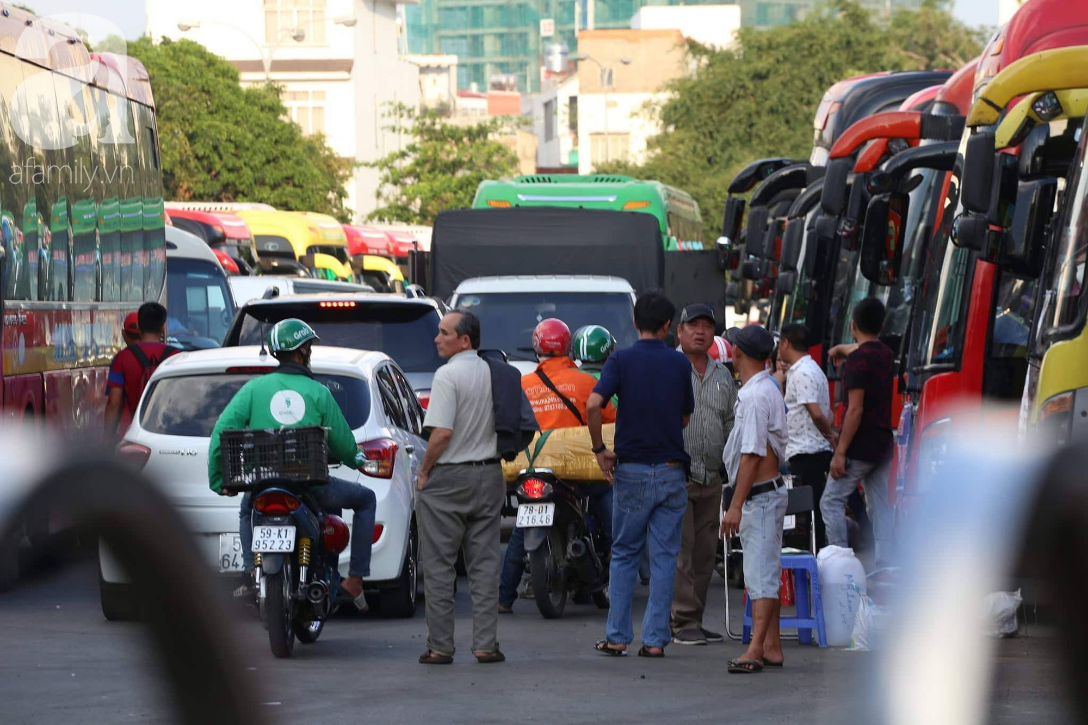Bien-so: (252, 523, 296, 554), (513, 500, 554, 529), (223, 533, 245, 573)
